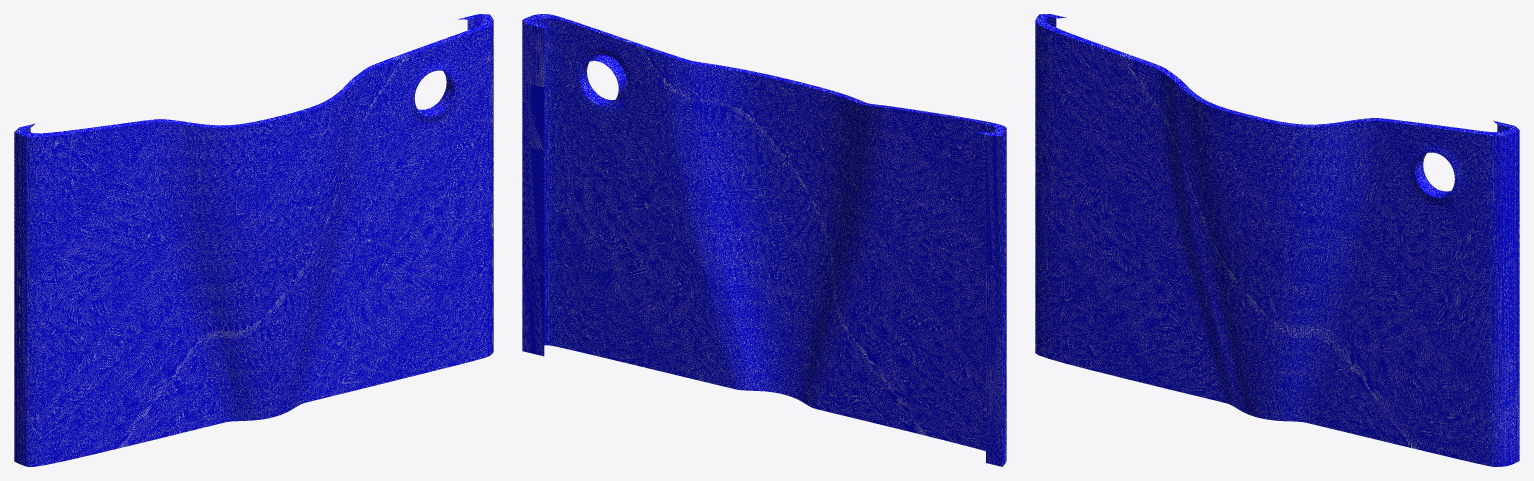
Rendered from original-69.obj.
The picture shows the model from 3 angles, left to right: view 1: azimuth 30°, elevation 25°; view 2: azimuth 150°, elevation 25°; view 3: azimuth 330°, elevation 25°; orthographic projection.
Visible parts, largest first — view 1: coffe9_1/coffe9/mesh56/mesh56-geometry#mesh56-geometry; view 2: coffe9_1/coffe9/mesh56/mesh56-geometry#mesh56-geometry; view 3: coffe9_1/coffe9/mesh56/mesh56-geometry#mesh56-geometry.
Part boxes in pixels (x1,y1,x2,y2): coffe9_1/coffe9/mesh56/mesh56-geometry#mesh56-geometry: (14,14,493,466); coffe9_1/coffe9/mesh56/mesh56-geometry#mesh56-geometry: (522,14,1006,466); coffe9_1/coffe9/mesh56/mesh56-geometry#mesh56-geometry: (1035,14,1519,466).
Size of the model in its own units: 1.08 by 0.7144 by 0.1309.
